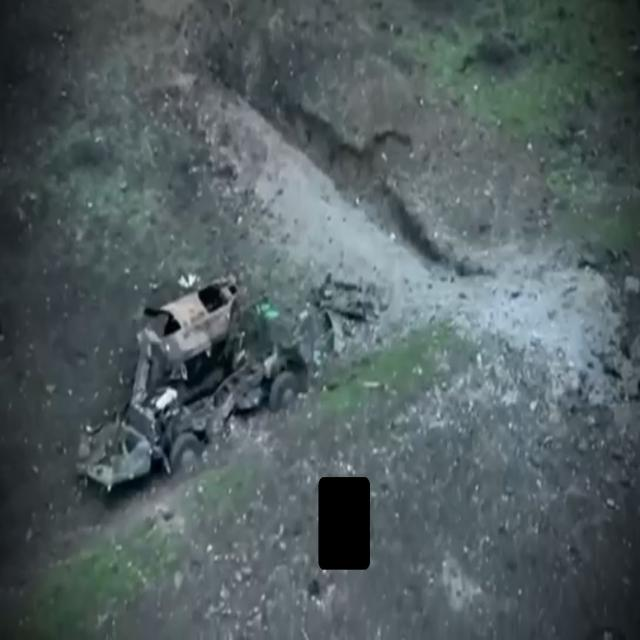Destroyed: (95, 273, 318, 493)
